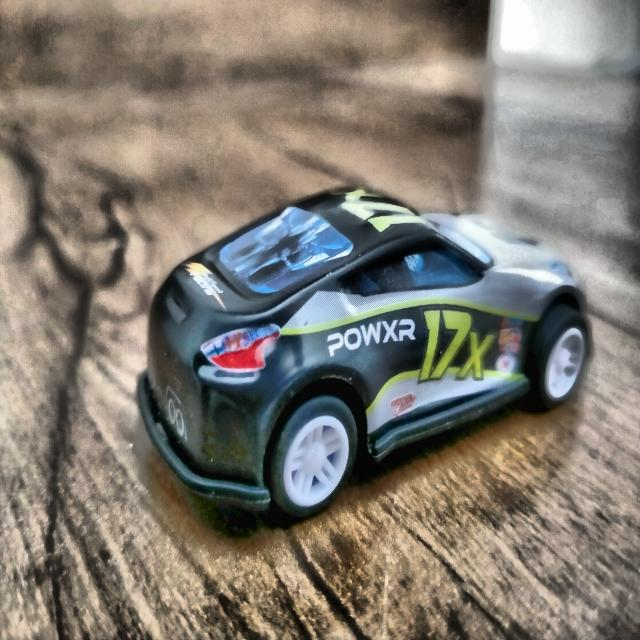Car: (142, 182, 594, 514)
